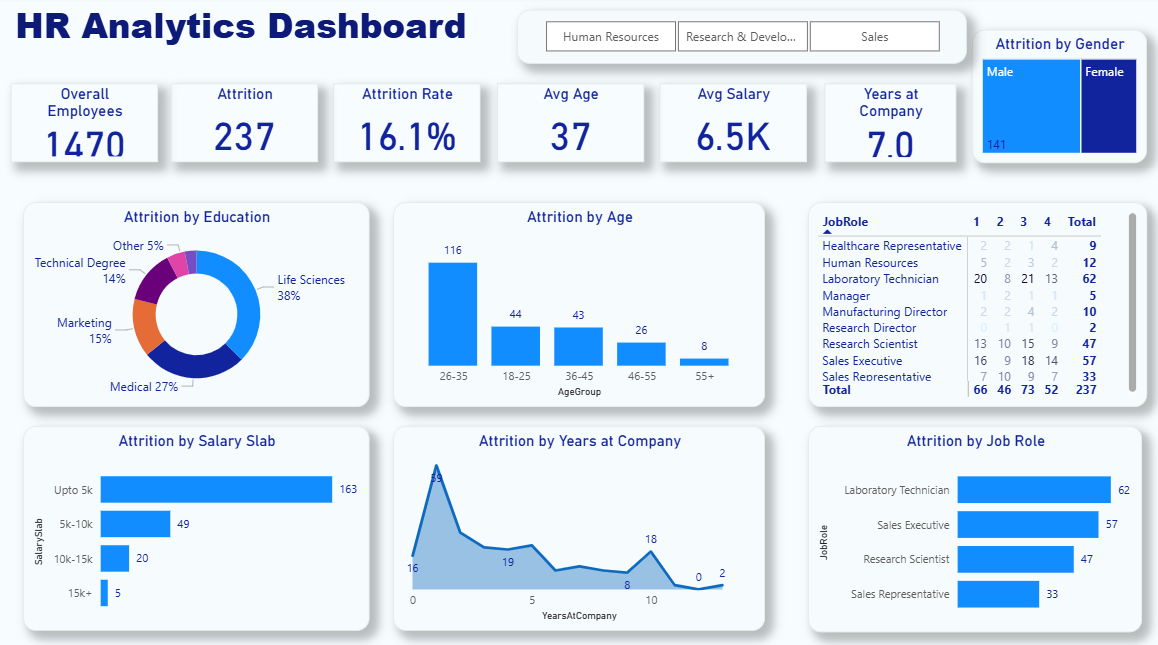

What the dashboard file says about the page in this screenshot:
{"tool":"powerbi","page":{"name":"Page 1","canvas":[1280,720],"ordinal":0},"visuals":[{"type":"card","title":"Overall Employees","fields":{"Values":["Count(HR_Analytics.EmpID)"]},"box":[15.6,96.3,161.5,86.4],"z":0},{"type":"card","title":"Attrition Rate","fields":{"Values":["HR_Analytics.AttritionRate"]},"box":[369.6,96.3,161.5,86.4],"z":1000},{"type":"card","title":"Avg Age","fields":{"Values":["Avg(HR_Analytics.Age)"]},"box":[549.5,96.3,161.5,86.4],"z":2000},{"type":"card","title":"Attrition","fields":{"Values":["Sum(HR_Analytics.AttritionCount)"]},"box":[191.2,96.3,161.5,86.4],"z":3000},{"type":"card","title":"Avg Salary","fields":{"Values":["Avg(HR_Analytics.MonthlyIncome)"]},"box":[728,96.3,161.5,86.4],"z":4000},{"type":"card","title":"Years at Company","fields":{"Values":["Avg(HR_Analytics.YearsAtCompany)"]},"box":[908.3,96.7,145,86.7],"z":5000},{"type":"donutChart","title":"Attrition by Education","fields":{"Category":["HR_Analytics.EducationField"],"Y":["Sum(HR_Analytics.AttritionCount)"]},"box":[28.3,226.7,380,225],"z":6000},{"type":"columnChart","title":"Attrition by Age","fields":{"Category":["HR_Analytics.AgeGroup"],"Y":["Sum(HR_Analytics.AttritionCount)"]},"box":[435,226.7,408.3,225],"z":7000},{"type":"pivotTable","title":"Attrition by Age","fields":{"Values":["Sum(HR_Analytics.AttritionCount)"],"Rows":["HR_Analytics.JobRole"],"Columns":["HR_Analytics.JobSatisfaction"]},"box":[890,226.7,371.7,225],"z":8000},{"type":"barChart","title":"Attrition by Salary Slab","fields":{"Category":["HR_Analytics.SalarySlab"],"Y":["Sum(HR_Analytics.AttritionCount)"]},"box":[28.3,471.7,380,225],"z":9000},{"type":"barChart","title":"Attrition by Job Role","fields":{"Category":["HR_Analytics.JobRole"],"Y":["Sum(HR_Analytics.AttritionCount)"]},"box":[890,471.7,366.7,226.7],"z":10000},{"type":"areaChart","title":"Attrition by Years at Company","fields":{"Category":["HR_Analytics.YearsAtCompany"],"Y":["Sum(HR_Analytics.AttritionCount)"]},"box":[435,471.7,408.3,225],"z":11000},{"type":"treemap","title":"Attrition by Gender","fields":{"Group":["HR_Analytics.Gender"],"Values":["Sum(HR_Analytics.AttritionCount)"]},"box":[1070,36.7,191.7,146.7],"z":12000},{"type":"slicer","fields":{"Values":["HR_Analytics.Department"]},"box":[570.8,15.1,494,59],"z":13000},{"type":"textbox","box":[15.1,0,543.4,74.1],"z":14000}]}

Visuals, with their boxes in screenshot pixels (x1, y1, x2, y2), scaled from the page's 1280x720 canvas onto the 1158x645 screenshot:
"Overall Employees" card: [x1=14, y1=86, x2=160, y2=164]
"Attrition Rate" card: [x1=334, y1=86, x2=480, y2=164]
"Avg Age" card: [x1=497, y1=86, x2=643, y2=164]
"Attrition" card: [x1=173, y1=86, x2=319, y2=164]
"Avg Salary" card: [x1=659, y1=86, x2=805, y2=164]
"Years at Company" card: [x1=822, y1=87, x2=953, y2=164]
"Attrition by Education" donutChart: [x1=26, y1=203, x2=369, y2=405]
"Attrition by Age" columnChart: [x1=394, y1=203, x2=763, y2=405]
"Attrition by Age" pivotTable: [x1=805, y1=203, x2=1141, y2=405]
"Attrition by Salary Slab" barChart: [x1=26, y1=423, x2=369, y2=624]
"Attrition by Job Role" barChart: [x1=805, y1=423, x2=1137, y2=626]
"Attrition by Years at Company" areaChart: [x1=394, y1=423, x2=763, y2=624]
"Attrition by Gender" treemap: [x1=968, y1=33, x2=1141, y2=164]
slicer - HR_Analytics.Department: [x1=516, y1=14, x2=963, y2=66]
textbox: [x1=14, y1=0, x2=505, y2=66]
